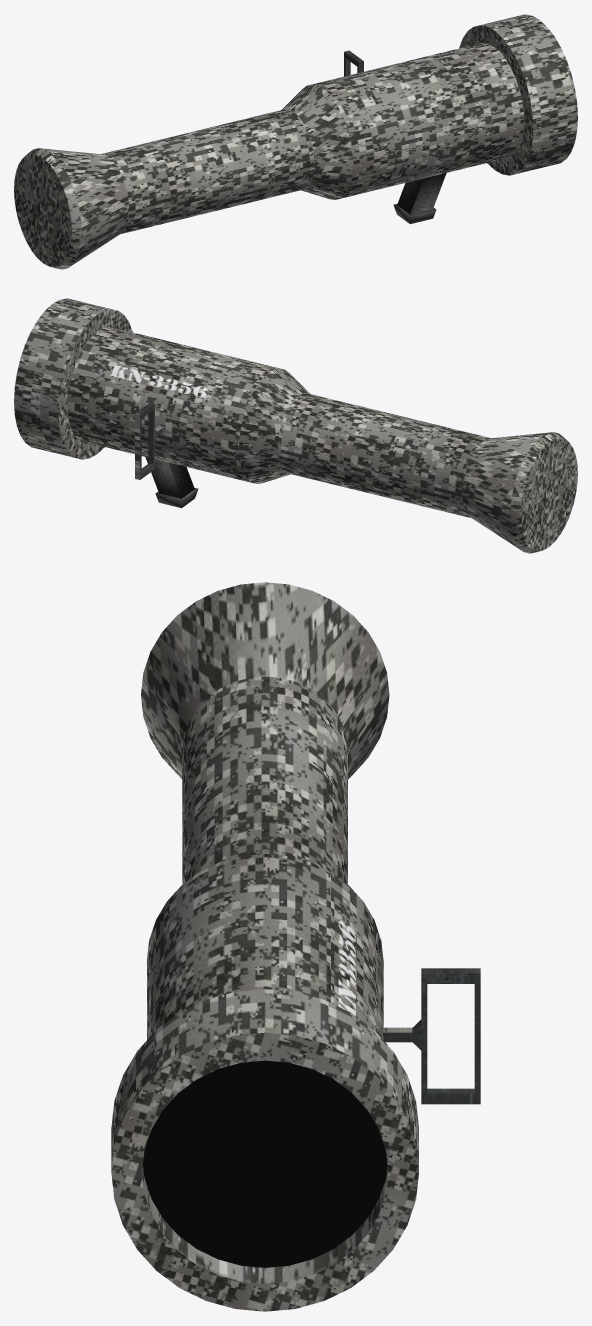
The model's file is launcher_000010.obj.
3 renders of one model, top to bottom at view 1: azimuth 30°, elevation 25°; view 2: azimuth 150°, elevation 25°; view 3: azimuth 270°, elevation 25°, orthographic. The views are drawn at different scales.
Visible parts, largest first — view 1: Cylinder; view 2: Cylinder; view 3: Cylinder.
Boxes of the visible parts, left/top/right/bottom form: Cylinder: left=14, top=14, right=577, bottom=269; Cylinder: left=14, top=298, right=577, bottom=553; Cylinder: left=111, top=582, right=480, bottom=1311.
Size of the model in its own units: 8.72 by 2.79 by 2.81.
1 material, 1 textured.
